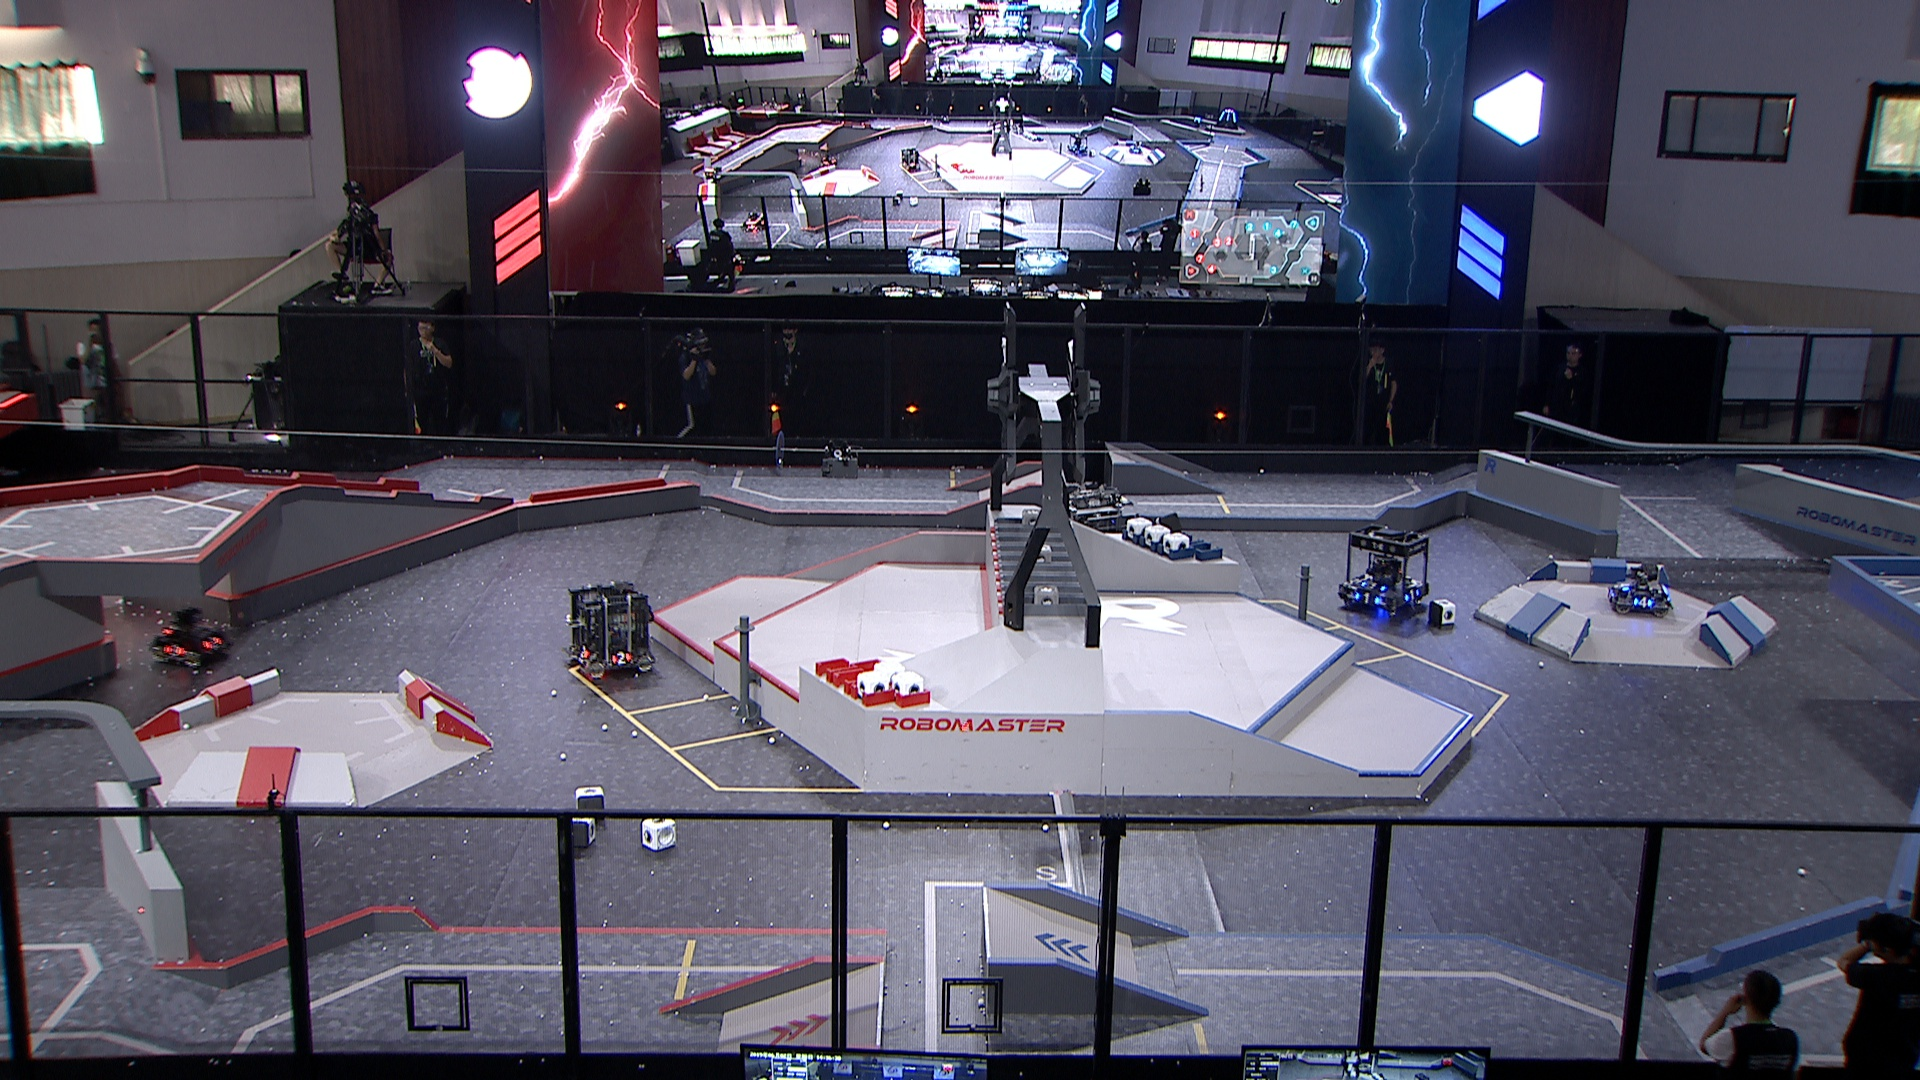armor: (1353, 589, 1381, 605), (611, 651, 632, 666), (1360, 580, 1385, 591), (204, 636, 220, 651), (576, 645, 591, 662), (161, 622, 177, 636), (1615, 580, 1631, 593), (1634, 597, 1654, 608), (1404, 589, 1420, 603), (164, 644, 178, 657), (1605, 588, 1615, 600)
car: (560, 576, 659, 680), (1335, 524, 1433, 624), (1051, 480, 1153, 564), (145, 599, 231, 671), (1604, 560, 1675, 617)
ignore: (895, 142, 927, 171), (738, 207, 769, 233), (1064, 135, 1091, 161), (1218, 105, 1244, 131), (814, 146, 843, 167), (1124, 138, 1145, 161), (698, 161, 719, 179), (1187, 113, 1207, 131)
